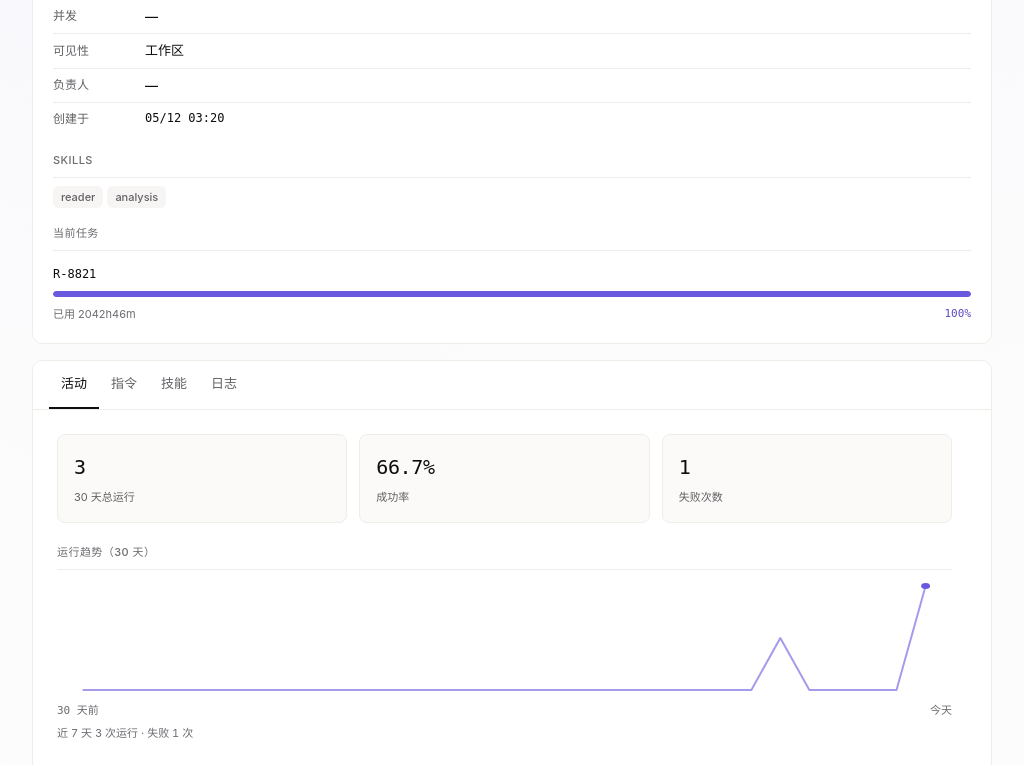
Test: AgentDetailView — inspector + tabs (M4.1 fidelity) › clicking a tab swaps the panel (Activity → Instructions)
(page scrolled)
What coordinates should you click on to do the following:
click the tab "指令"
I would click on:
 (124, 385)
Its box is x1=99 y1=361 x2=149 y2=408.
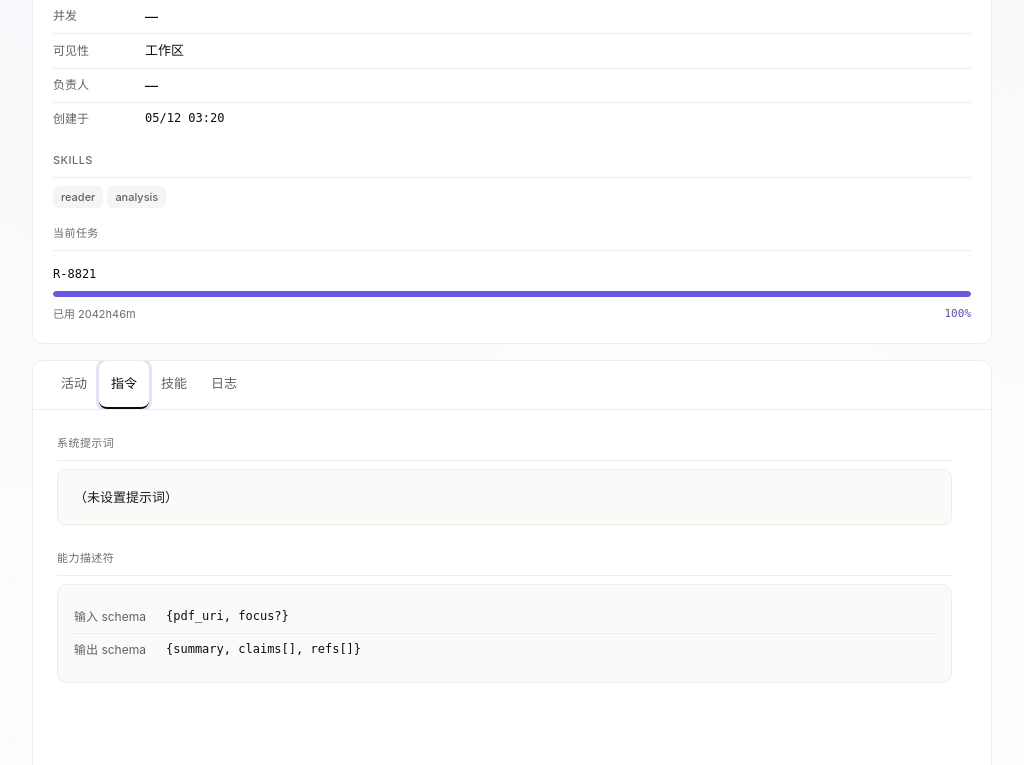
Expected: the text "系统提示词" is shown, x1=57 y1=434 x2=952 y2=461
Expected: the text "能力描述符" is shown, x1=57 y1=549 x2=952 y2=576
